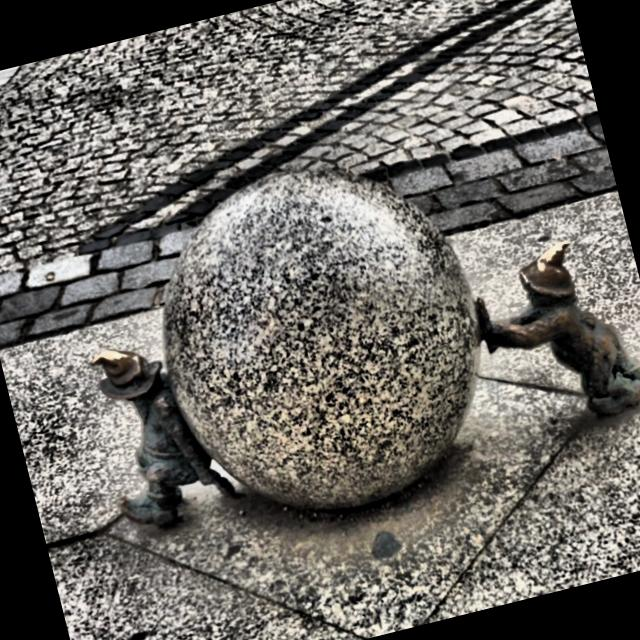Syzyfki: (40, 83, 640, 571)
